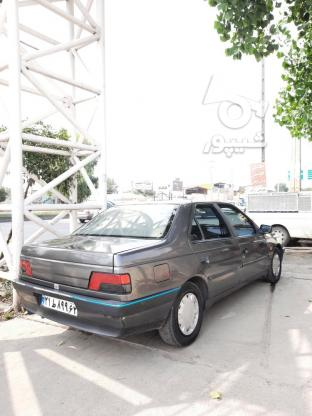car: (36, 293, 81, 319)
